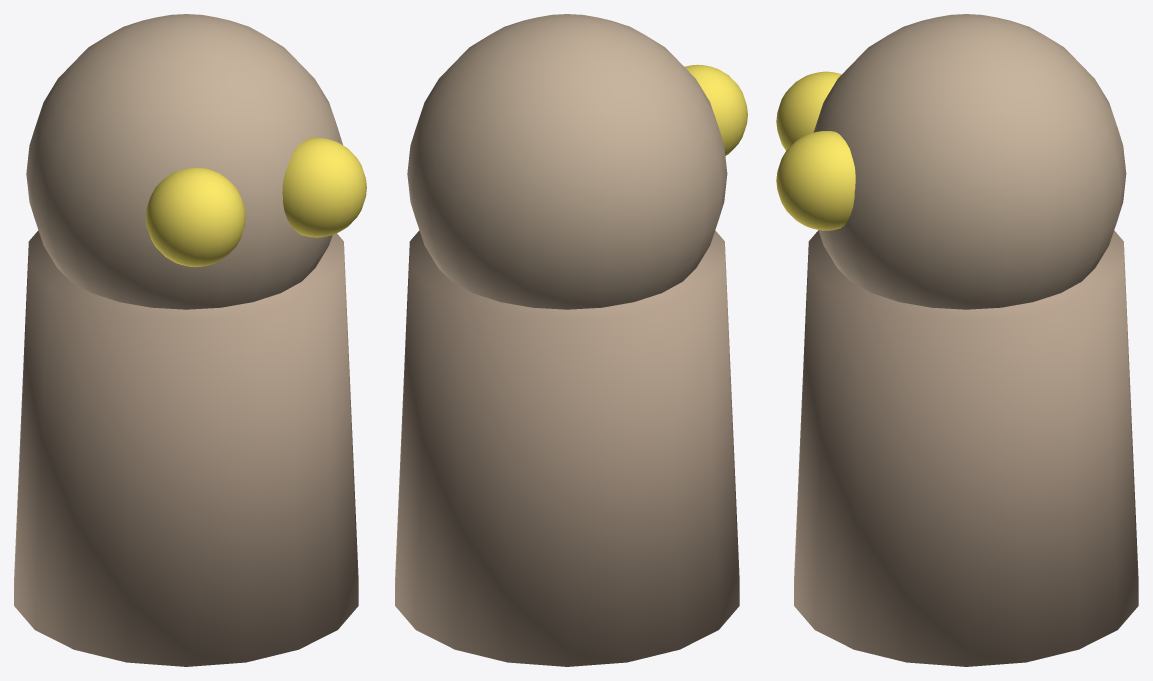
File: owl.glb
3 renders of one model, left to right at view 1: azimuth 30°, elevation 25°; view 2: azimuth 150°, elevation 25°; view 3: azimuth 270°, elevation 25°, orthographic.
Visible parts, largest first — view 1: body, head, eye_l, eye_r; view 2: body, head, eye_l; view 3: body, head, eye_r, eye_l.
Part boxes in pixels (x1,y1,x2,y2): body: [14, 230, 358, 666]; head: [26, 14, 342, 309]; eye_l: [145, 167, 245, 267]; eye_r: [282, 137, 366, 237]; body: [395, 230, 739, 666]; head: [407, 14, 727, 309]; eye_l: [684, 64, 747, 155]; body: [794, 230, 1138, 666]; head: [813, 14, 1126, 309]; eye_r: [776, 131, 855, 230]; eye_l: [776, 71, 841, 150].
Size of the model in its own units: 0.7 by 1.24 by 0.7247.
